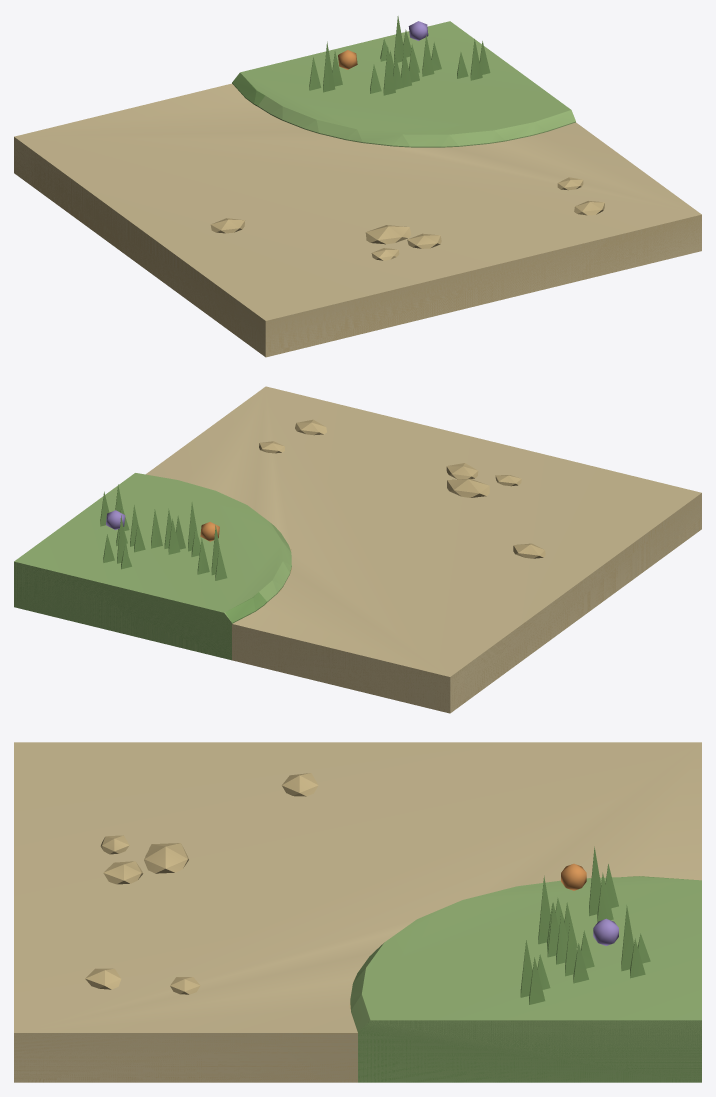
The model's file is terrain.sand.inner.glb.
3 views of the same model, one above another, from view 1: azimuth 30°, elevation 25°; view 2: azimuth 150°, elevation 25°; view 3: azimuth 270°, elevation 25° (orthographic). The views are drawn at different scales.
Parts seen in each view (by area): view 1: terrain.sand.inner.v2.mesh, terrain.sand.inner.v1.mesh, terrain.sand.inner.v0.mesh; view 2: terrain.sand.inner.v2.mesh, terrain.sand.inner.v0.mesh, terrain.sand.inner.v1.mesh; view 3: terrain.sand.inner.v2.mesh, terrain.sand.inner.v0.mesh, terrain.sand.inner.v1.mesh.
Part boxes in pixels (x1=…): terrain.sand.inner.v2.mesh: x1=14, y1=21, x2=701, y2=333; terrain.sand.inner.v1.mesh: x1=14, y1=16, x2=701, y2=356; terrain.sand.inner.v0.mesh: x1=14, y1=35, x2=701, y2=357; terrain.sand.inner.v2.mesh: x1=14, y1=386, x2=701, y2=712; terrain.sand.inner.v0.mesh: x1=14, y1=475, x2=701, y2=713; terrain.sand.inner.v1.mesh: x1=17, y1=419, x2=701, y2=713; terrain.sand.inner.v2.mesh: x1=14, y1=742, x2=701, y2=1082; terrain.sand.inner.v0.mesh: x1=14, y1=835, x2=701, y2=1082; terrain.sand.inner.v1.mesh: x1=14, y1=861, x2=701, y2=1082.
Bounding box in the file's own units: 1 × 0.2061 × 1.
